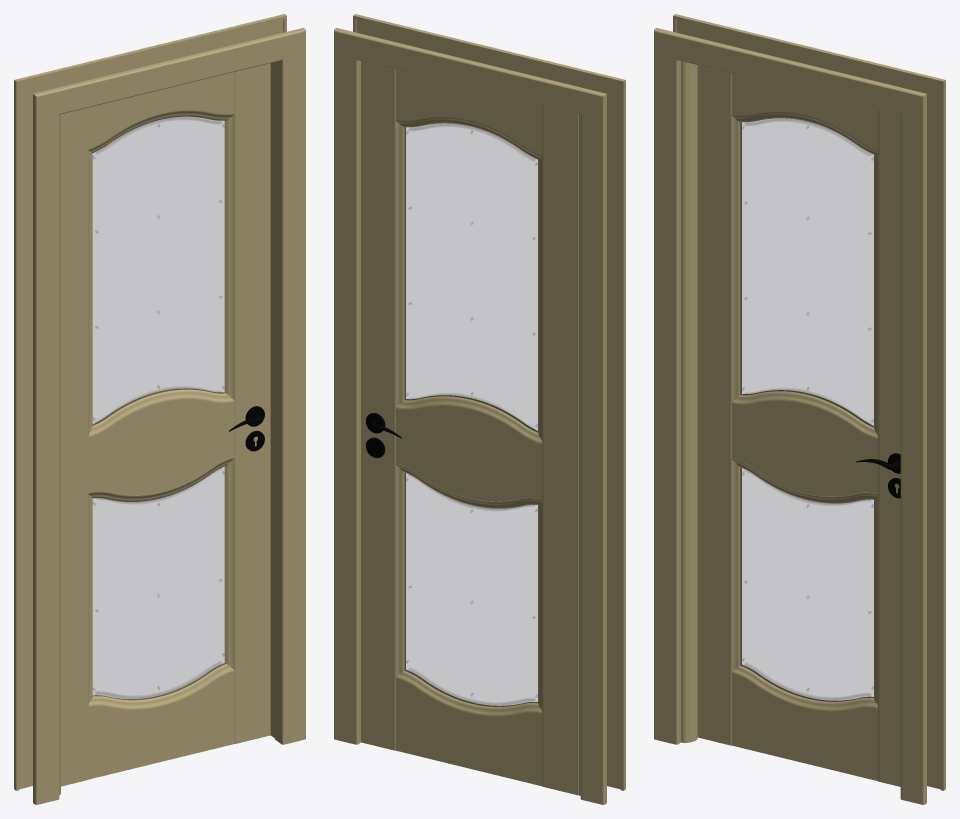
File: Door_700.fbx
The picture shows the model from 3 angles, left to right: view 1: azimuth 30°, elevation 25°; view 2: azimuth 150°, elevation 25°; view 3: azimuth 330°, elevation 25°; orthographic projection.
Visible parts, largest first — view 1: classic_41, nalichhnik, classic_46, classic_40, nalichhni0; view 2: classic_41, nalichhnik, classic_46, classic_40, nalichhni0; view 3: classic_41, nalichhnik, classic_46, classic_40, nalichhni0.
Boxes of the visible parts, x1,y1,x2,y2 form: classic_41: (61,63,270,786); nalichhnik: (14,16,305,804); classic_46: (93,117,225,424); classic_40: (93,466,225,699); nalichhni0: (14,14,305,114); classic_41: (361,61,578,795); nalichhnik: (334,16,625,804); classic_46: (405,123,537,431); classic_40: (405,473,537,706); nalichhni0: (334,14,625,114); classic_41: (697,65,900,786); nalichhnik: (654,16,945,804); classic_46: (741,118,873,426); classic_40: (741,468,873,701); nalichhni0: (654,14,945,114).
Bounding box in the file's own units: 3992 × 10000 × 724.
